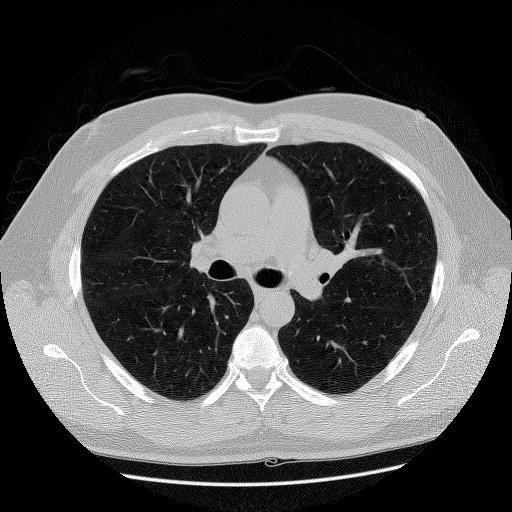nodule: (343, 294, 354, 305)
